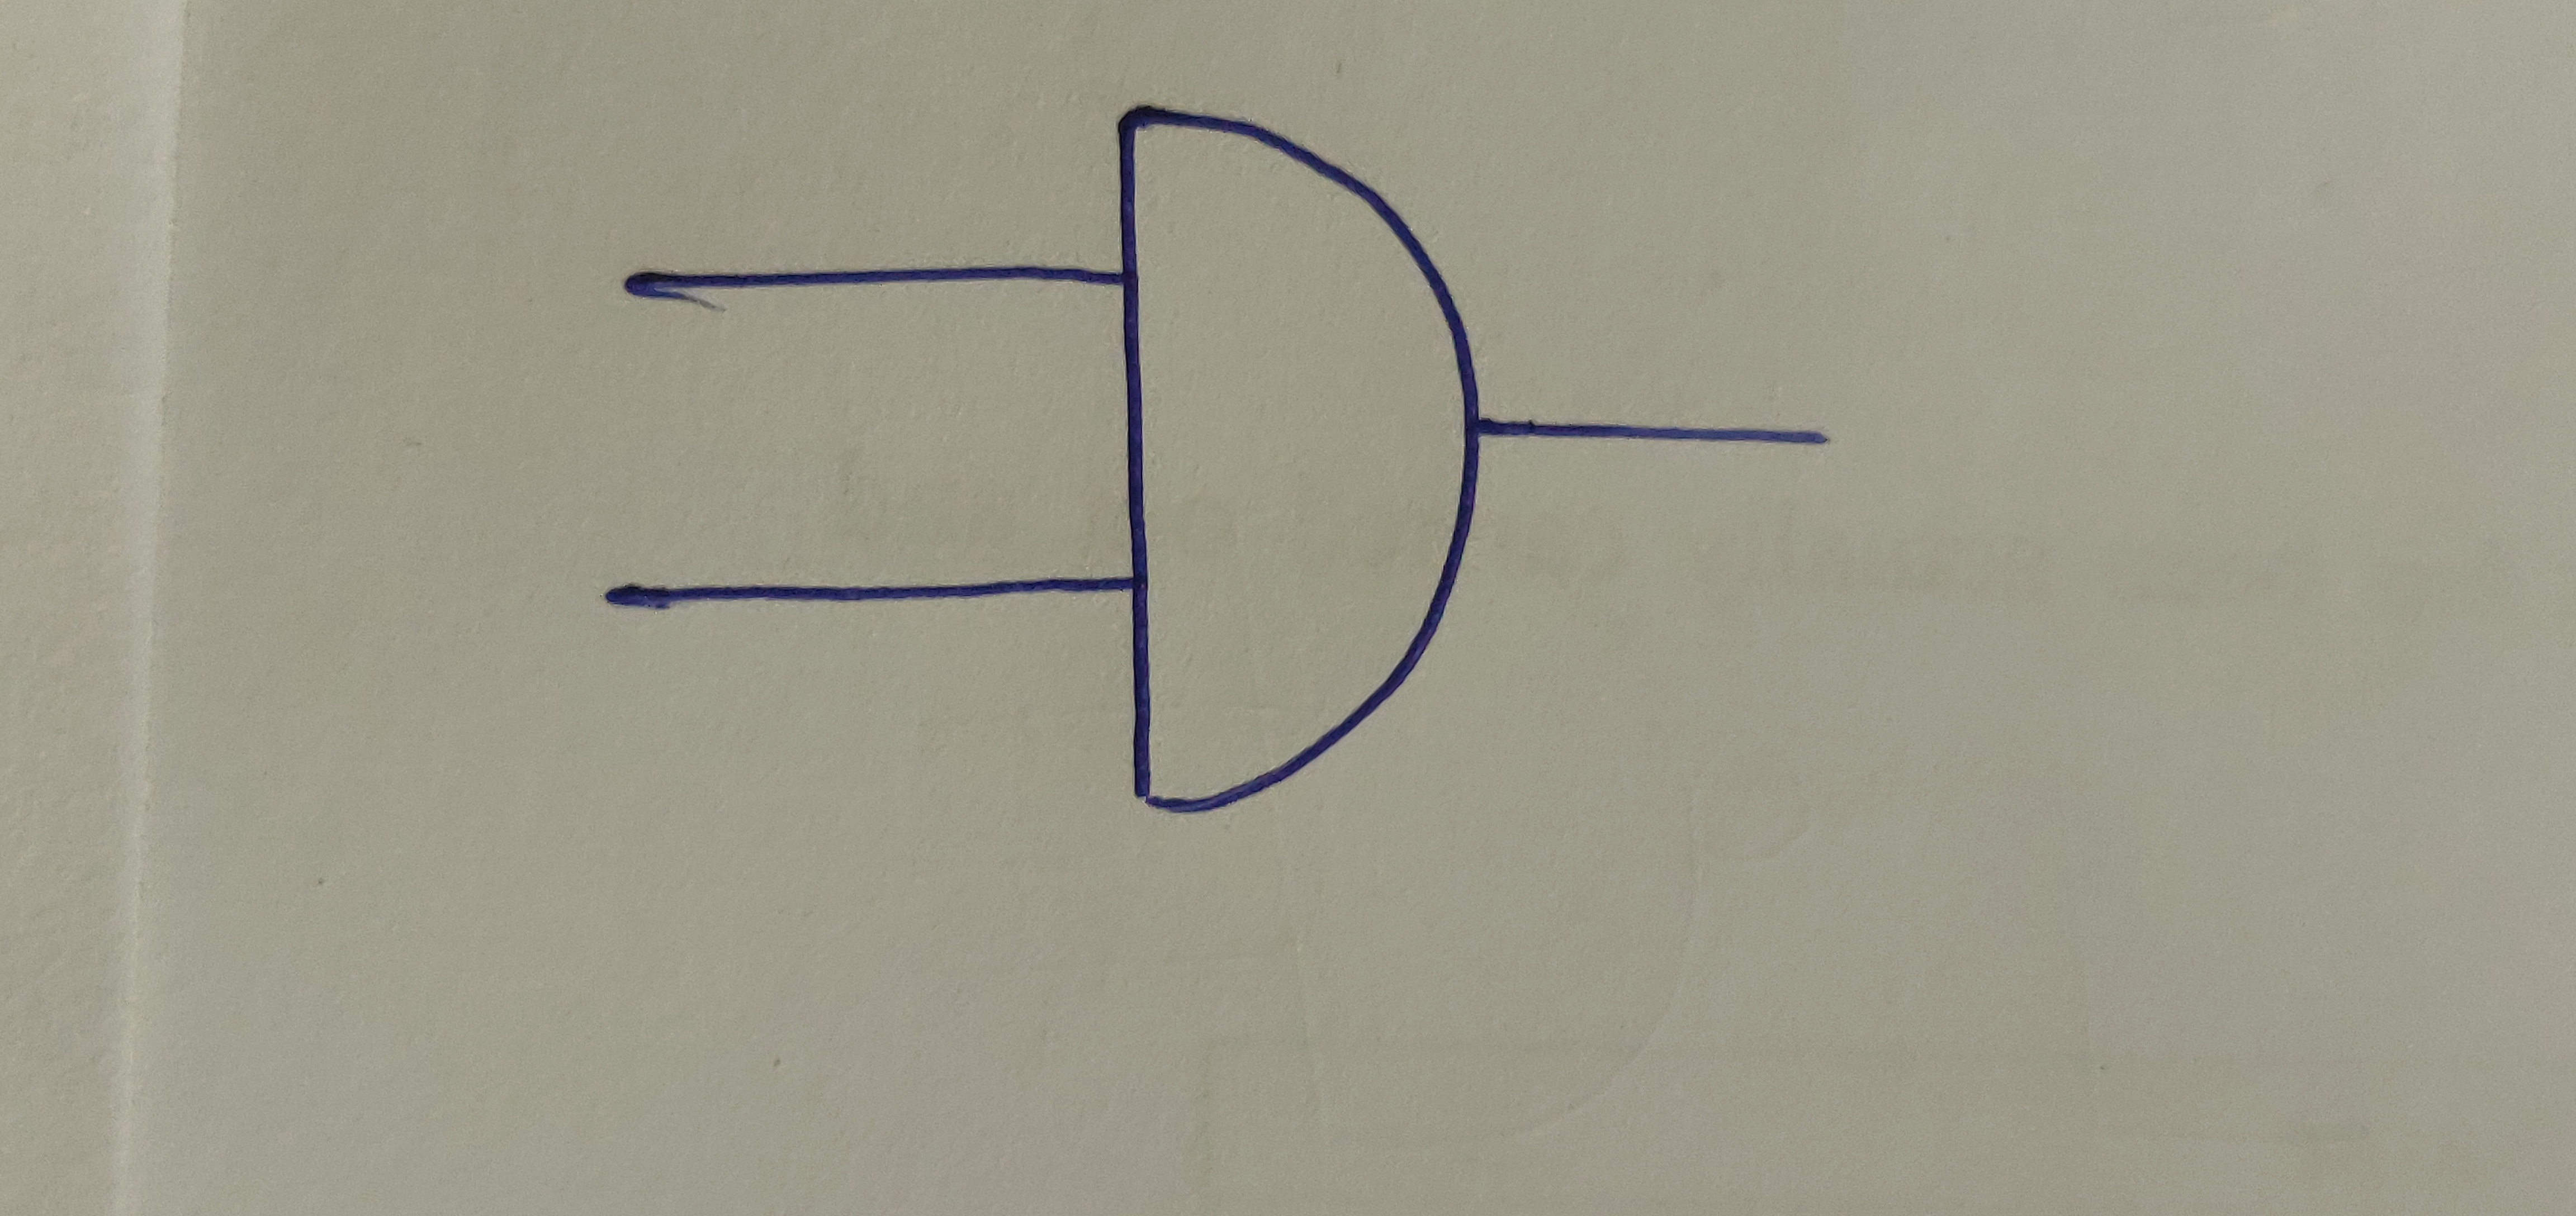and: (1106, 100, 1482, 813)
